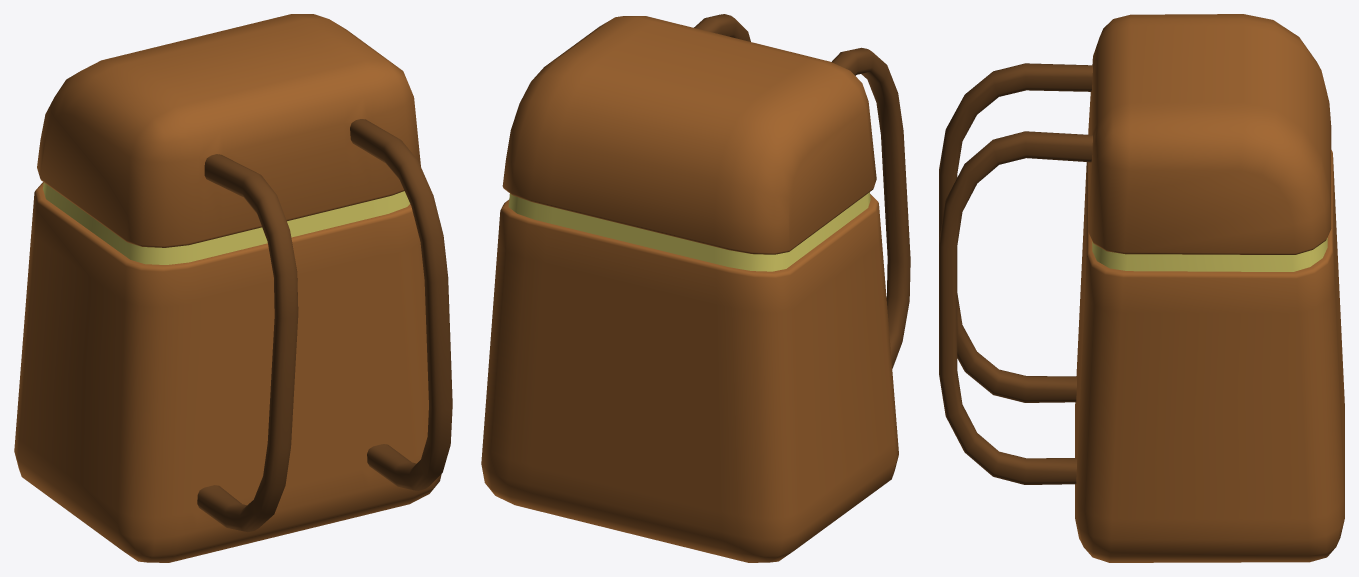
File: render.fbx
3 renders of one model, left to right at view 1: azimuth 30°, elevation 25°; view 2: azimuth 150°, elevation 25°; view 3: azimuth 270°, elevation 25°, orthographic. The views are drawn at different scales.
Visible parts, largest first — view 1: Plane.002; view 2: Plane.002; view 3: Plane.002.
Boxes of the visible parts, bbox=[...] form: Plane.002: bbox=[14, 14, 452, 562]; Plane.002: bbox=[481, 14, 910, 562]; Plane.002: bbox=[939, 14, 1344, 562].
Bounding box in the file's own units: 243 × 315 × 267.
